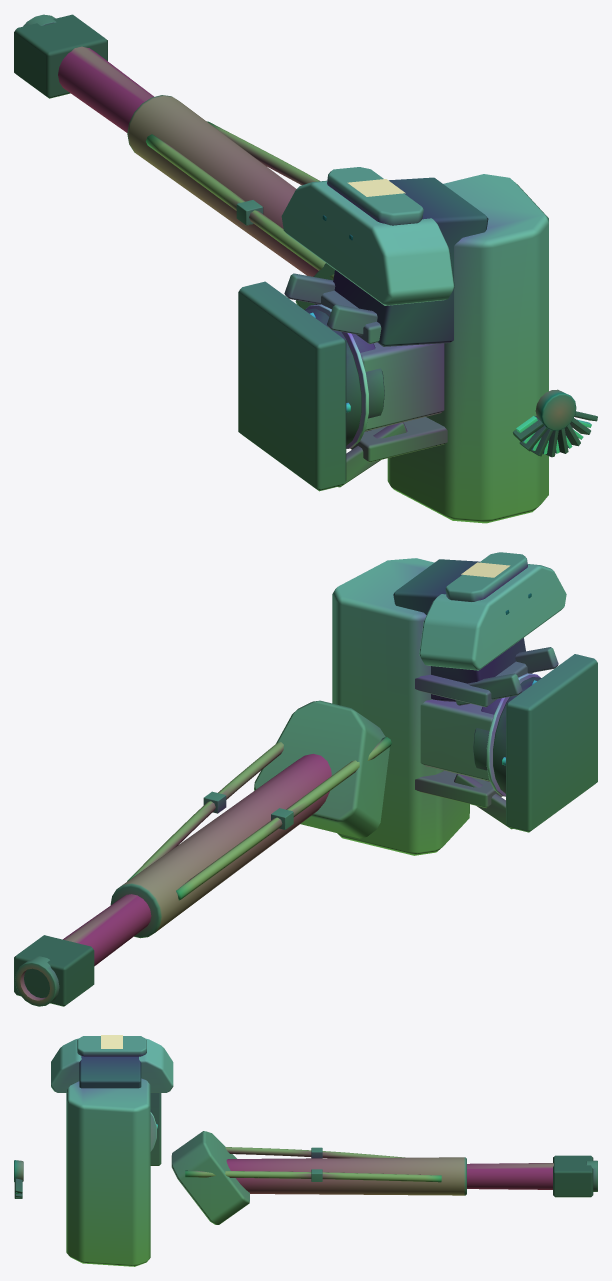
Rendered from arm_ags152.glb.
The picture shows the model from 3 angles, top to bottom: view 1: azimuth 30°, elevation 25°; view 2: azimuth 150°, elevation 25°; view 3: azimuth 270°, elevation 25°; orthographic projection. The views are drawn at different scales.
Visible parts, largest first — view 1: Body__armor, Body__gunmetal, Body__dark, Body__armor_dark, Body__armor_sub, Body__copper, Body__chrome, Body__decal; view 2: Body__armor, Body__gunmetal, Body__armor_sub, Body__armor_dark, Body__dark, Body__copper, Body__chrome; view 3: Body__armor, Body__armor_dark, Body__armor_sub, Body__dark, Body__gunmetal, Body__copper.
Boxes of the visible parts, x1,y1,x2,y2 form: Body__armor: (281, 174, 548, 523); Body__gunmetal: (23, 14, 576, 491); Body__dark: (14, 14, 597, 457); Body__armor_dark: (127, 95, 318, 276); Body__armor_sub: (284, 167, 447, 487); Body__copper: (146, 121, 334, 279); Body__chrome: (305, 304, 368, 448); Body__decal: (347, 179, 405, 196); Body__armor: (332, 558, 566, 855); Body__gunmetal: (15, 654, 597, 1006); Body__armor_sub: (254, 552, 558, 838); Body__armor_dark: (110, 753, 331, 938); Body__dark: (14, 559, 541, 1006); Body__copper: (127, 737, 391, 900); Body__chrome: (486, 673, 540, 796); Body__armor: (51, 1038, 173, 1266); Body__armor_dark: (226, 1157, 466, 1195); Body__armor_sub: (77, 1036, 249, 1224); Body__dark: (14, 1056, 593, 1198); Body__gunmetal: (14, 1093, 597, 1191); Body__copper: (185, 1147, 441, 1182).
Size of the model in its own units: 0.9047 by 1.11 by 3.19.
